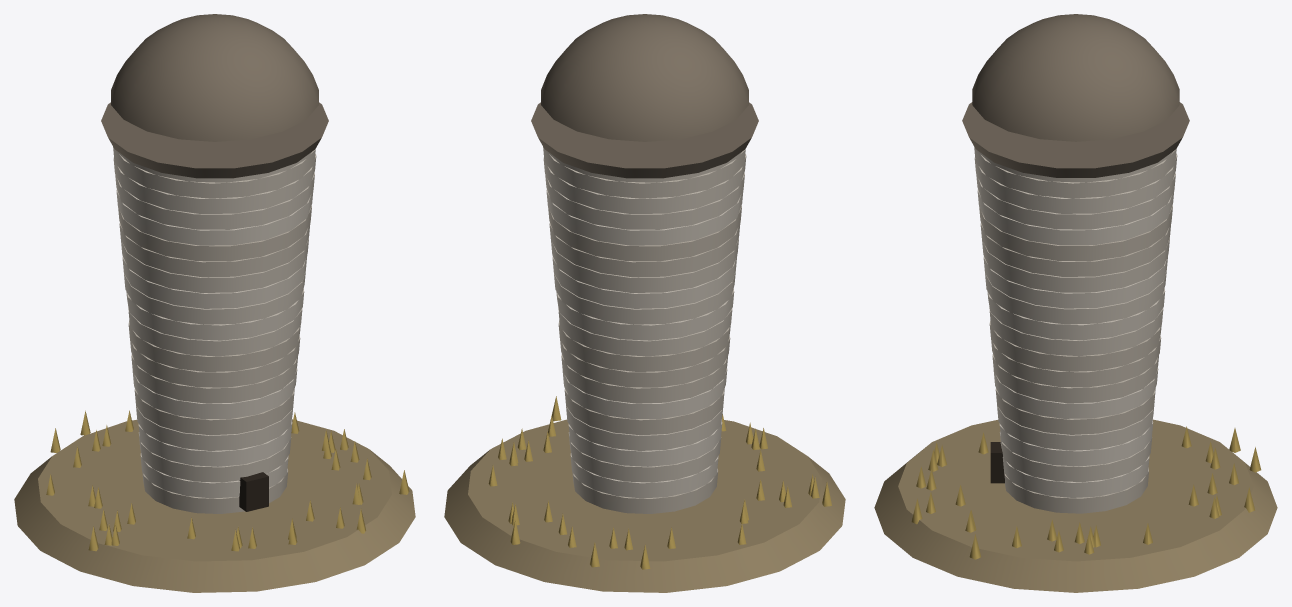
Rendered from chullpa-sillustani.glb.
3 renders of one model, left to right at view 1: azimuth 30°, elevation 25°; view 2: azimuth 150°, elevation 25°; view 3: azimuth 270°, elevation 25°, orthographic.
Visible parts, largest first — view 1: Chullpa de Sillustani; view 2: Chullpa de Sillustani; view 3: Chullpa de Sillustani.
Part boxes in pixels (x1,y1,x2,y2): Chullpa de Sillustani: (14, 14, 415, 592); Chullpa de Sillustani: (444, 14, 845, 592); Chullpa de Sillustani: (874, 14, 1277, 592).
Bounding box in the file's own units: 3.4 × 4.5 × 3.4.
